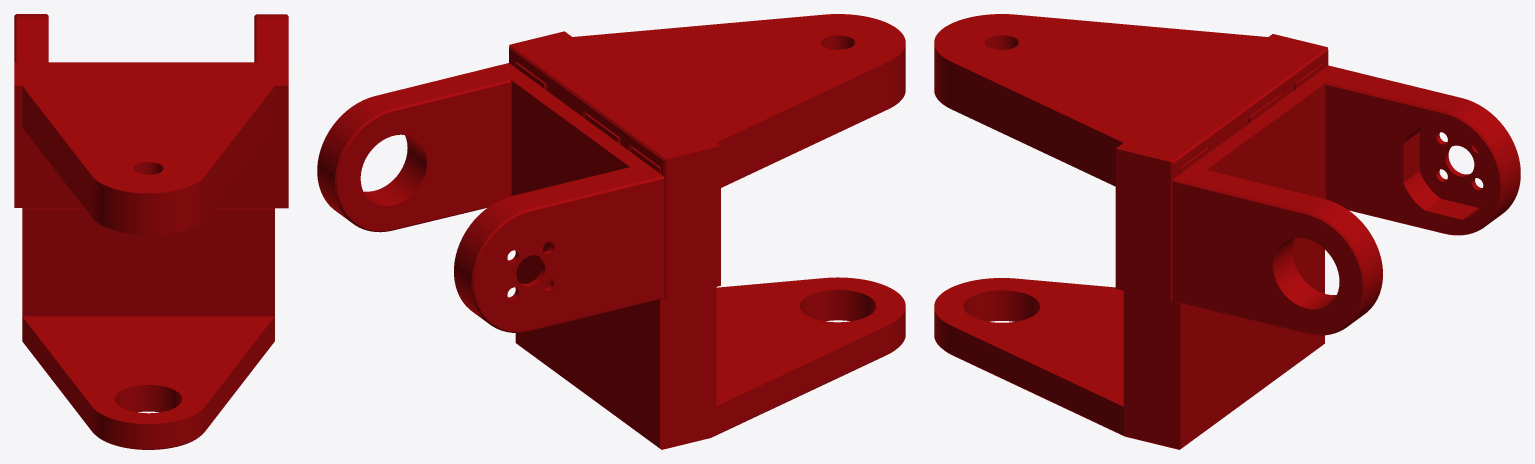
File: palm_link31.dae
The picture shows the model from 3 angles, left to right: view 1: azimuth 30°, elevation 25°; view 2: azimuth 150°, elevation 25°; view 3: azimuth 270°, elevation 25°; orthographic projection. The views are drawn at different scales.
Parts seen in each view (by area): view 1: palm_link31; view 2: palm_link31; view 3: palm_link31.
Boxes of the visible parts, left/top/right/bottom form: palm_link31: left=14, top=14, right=288, bottom=449; palm_link31: left=317, top=14, right=905, bottom=449; palm_link31: left=934, top=14, right=1520, bottom=449.
Bounding box in the file's own units: 68.49 × 87.13 × 48.25.
1 material, 1 textured.
